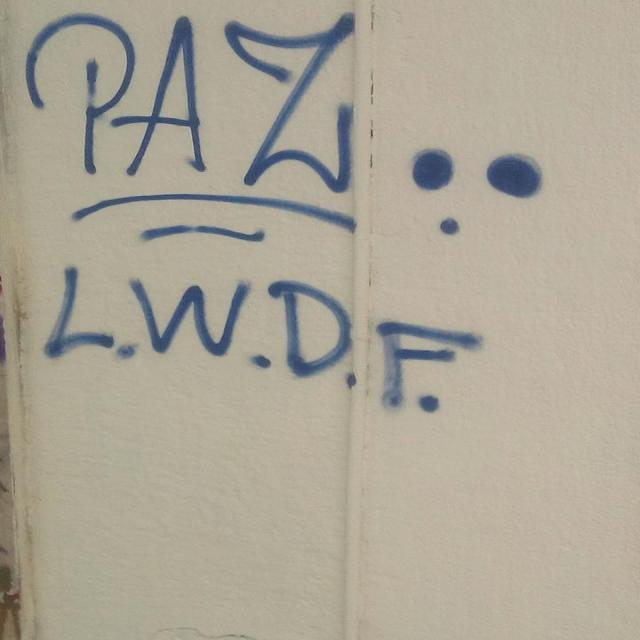nonspitting: (26, 13, 542, 243), (45, 266, 481, 415)
